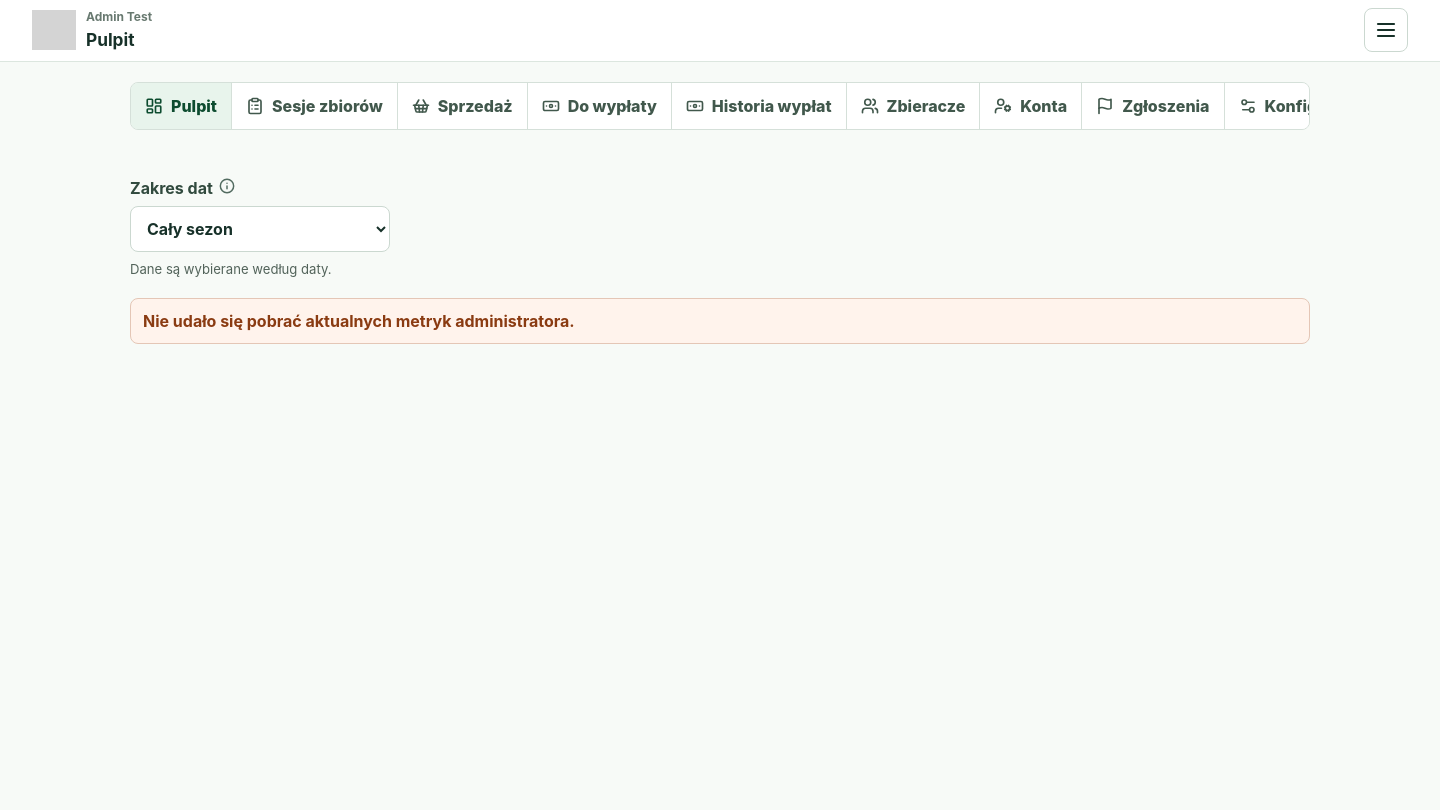
Test: App shell › shows only the simple offline storage setting in the account view
What coordinates should you click on to do the following:
click the button named "Otwórz menu"
I would click on:
 (1386, 30)
Its box is [1364, 8, 1408, 52].
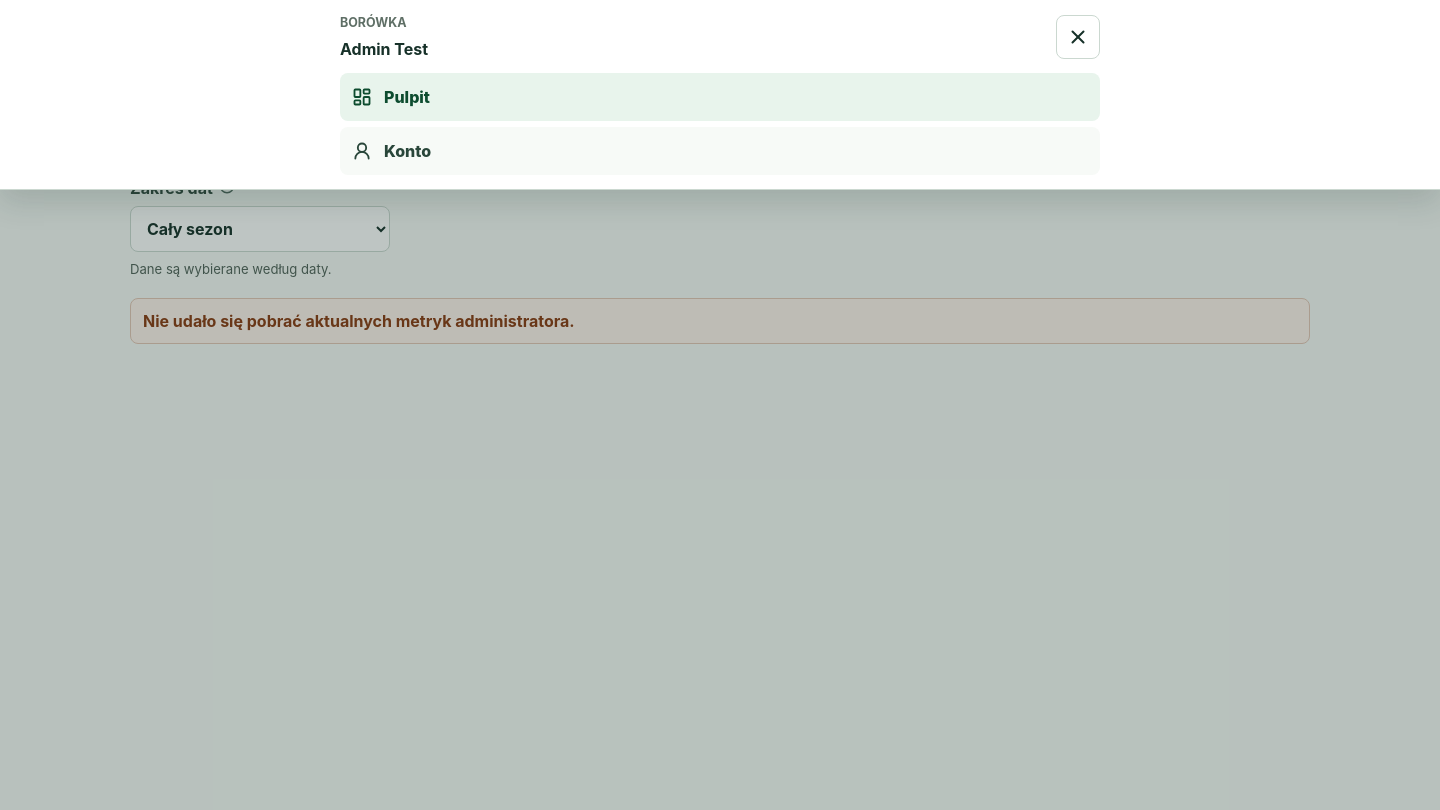
What coordinates should you click on to do the following:
click the button "Konto"
I would click on:
 (408, 151)
Its box is [340, 127, 1100, 175].
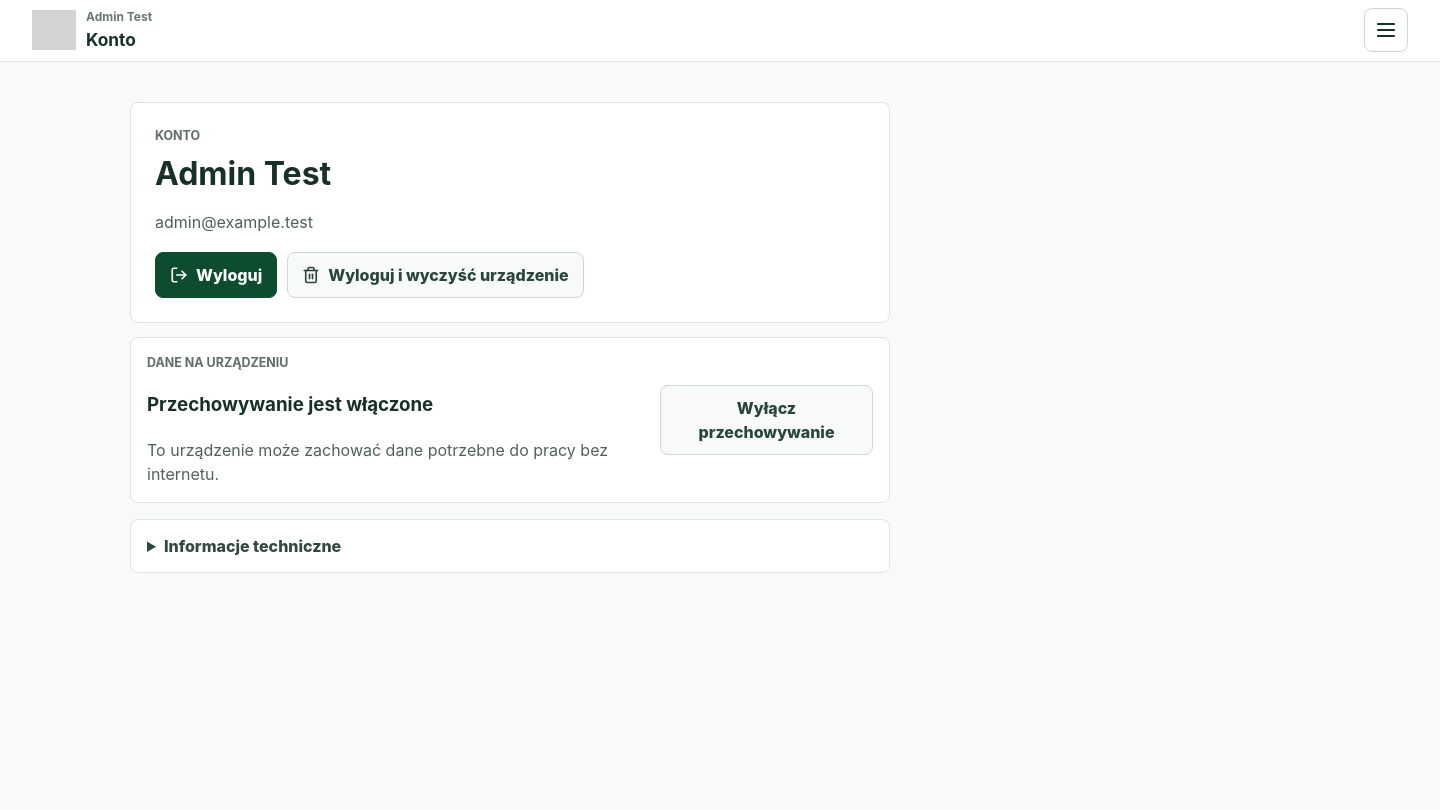
Check: the element labelled "Dane na urządzeniu" is shown, box [130, 337, 890, 503]
Check: the button "Wyłącz przechowywanie" is shown, box [660, 385, 873, 455]
